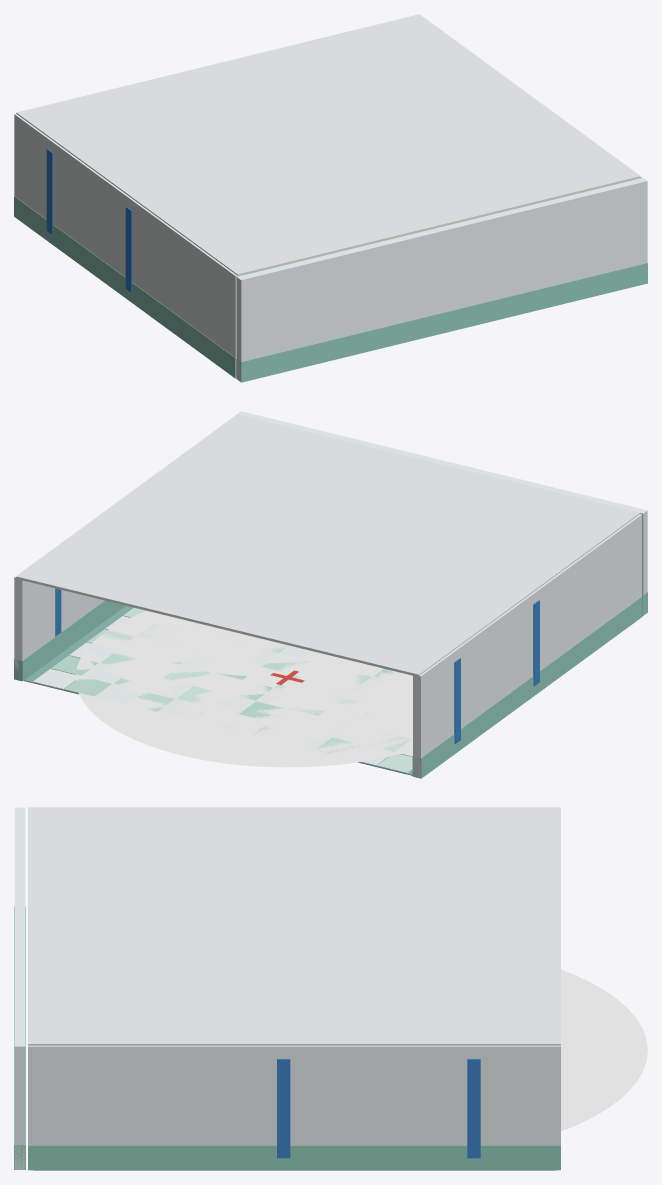
Rendered from arena.fbx.
3 views of the same model, one above another, from view 1: azimuth 30°, elevation 25°; view 2: azimuth 150°, elevation 25°; view 3: azimuth 270°, elevation 25° (orthographic). The views are drawn at different scales.
Parts seen in each view (by area): view 1: arena_backdrop; view 2: arena_backdrop, Col_Ground, arena_floor; view 3: arena_backdrop, Col_Ground, arena_floor.
Boxes of the visible parts, x1=… form: arena_backdrop: x1=14, y1=14, x2=647, y2=382; arena_backdrop: x1=14, y1=411, x2=647, y2=778; Col_Ground: x1=75, y1=611, x2=412, y2=767; arena_floor: x1=24, y1=605, x2=412, y2=775; arena_backdrop: x1=14, y1=807, x2=560, y2=1170; Col_Ground: x1=561, y1=969, x2=647, y2=1131; arena_floor: x1=34, y1=1170, x2=555, y2=1170.
Size of what is drawn, in the model's own units: 20.9 by 5.13 by 23.32.
